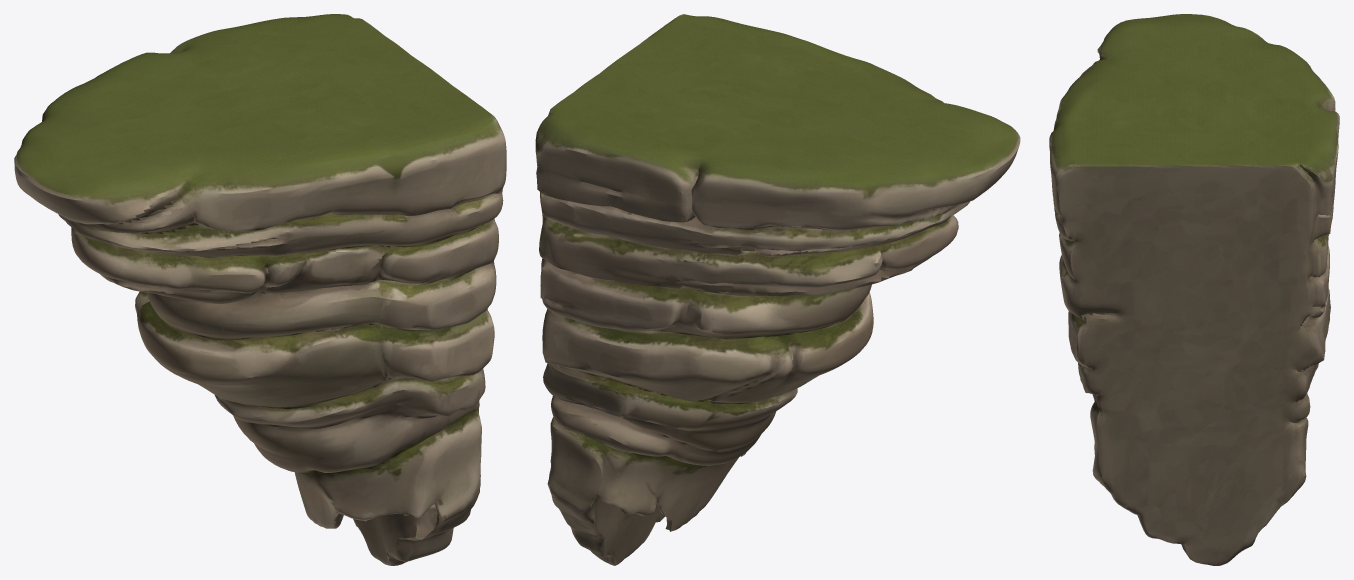
Rendered from cloudreach_stratified_overhang.glb.
3 views of the same model, side by side, from view 1: azimuth 30°, elevation 25°; view 2: azimuth 150°, elevation 25°; view 3: azimuth 270°, elevation 25° (orthographic). The views are drawn at different scales.
Parts seen in each view (by area): view 1: Mesh_0; view 2: Mesh_0; view 3: Mesh_0.
Boxes of the visible parts, x1,y1,x2,y2 form: Mesh_0: [14, 14, 506, 565]; Mesh_0: [535, 14, 1020, 565]; Mesh_0: [1049, 14, 1339, 565].
Size of the model in its own units: 1.6 by 1.9 by 1.23.
Materials: 1 (1 with a texture image).
